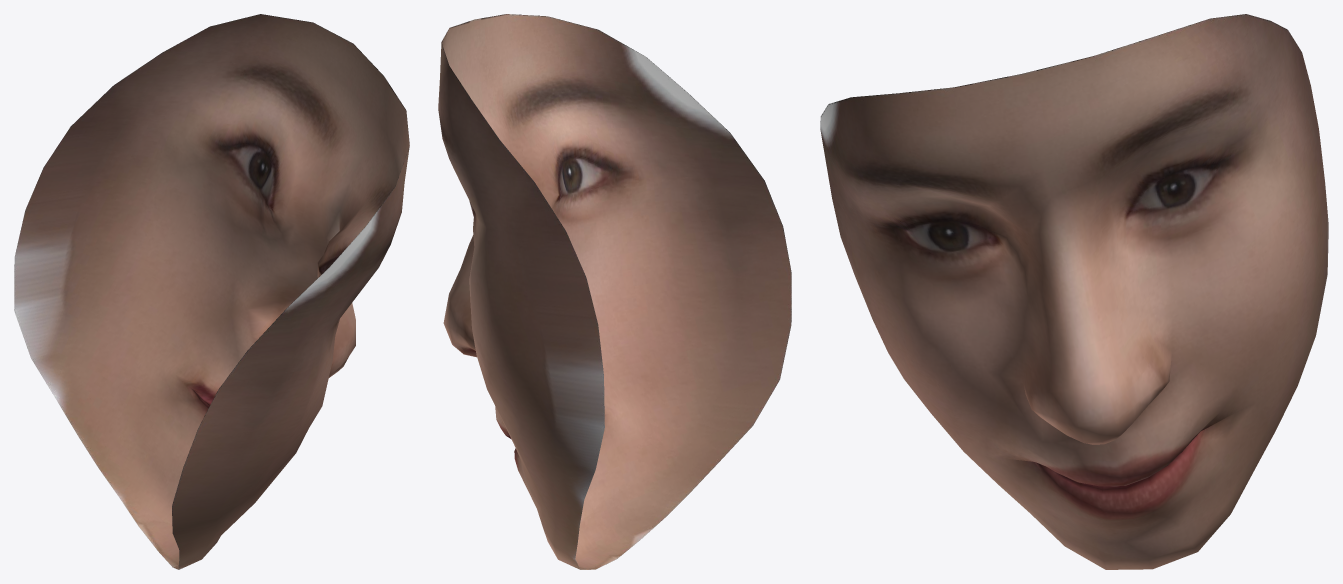
File: xiaohongshu_food.glb
The picture shows the model from 3 angles, left to right: view 1: azimuth 30°, elevation 25°; view 2: azimuth 150°, elevation 25°; view 3: azimuth 270°, elevation 25°; orthographic projection. The views are drawn at different scales.
Parts seen in each view (by area): view 1: xiaohongshu_food; view 2: xiaohongshu_food; view 3: xiaohongshu_food.
Boxes of the visible parts, <box> form: xiaohongshu_food: <box>14,14,409,569</box>; xiaohongshu_food: <box>438,14,791,569</box>; xiaohongshu_food: <box>820,14,1328,569</box>.
Bounding box in the file's own units: 0.4452 × 0.8087 × 0.5989.
1 material, 1 textured.
